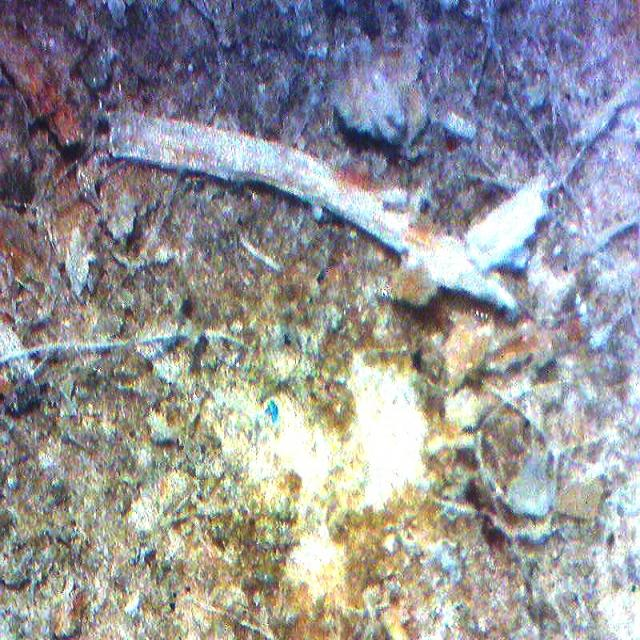microplastic: (265, 399, 279, 425)
